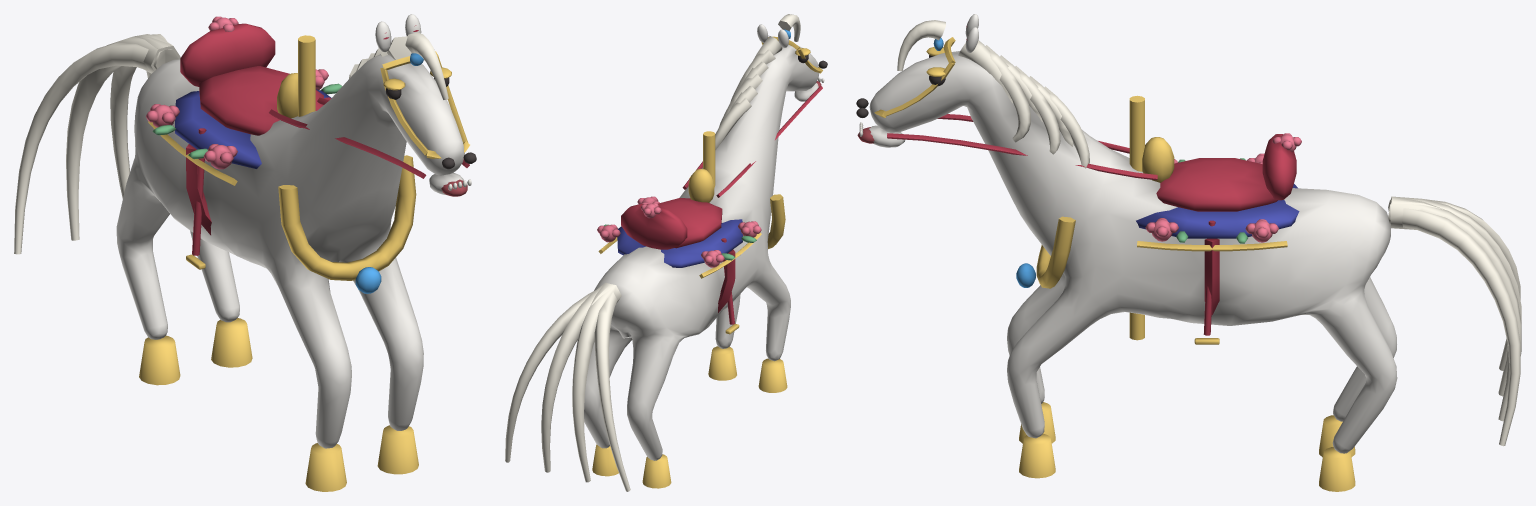
Rendered from carousel_horse.glb.
3 renders of one model, left to right at view 1: azimuth 30°, elevation 25°; view 2: azimuth 150°, elevation 25°; view 3: azimuth 270°, elevation 25°, orthographic. The views are drawn at different scales.
Visible parts, largest first — view 1: carousel_horse; view 2: carousel_horse; view 3: carousel_horse.
Boxes of the visible parts, x1=… form: carousel_horse: x1=14, y1=14, x2=476, y2=491; carousel_horse: x1=505, y1=14, x2=827, y2=491; carousel_horse: x1=856, y1=14, x2=1521, y2=491.
Bounding box in the file's own units: 0.7866 × 1.98 × 2.66.
